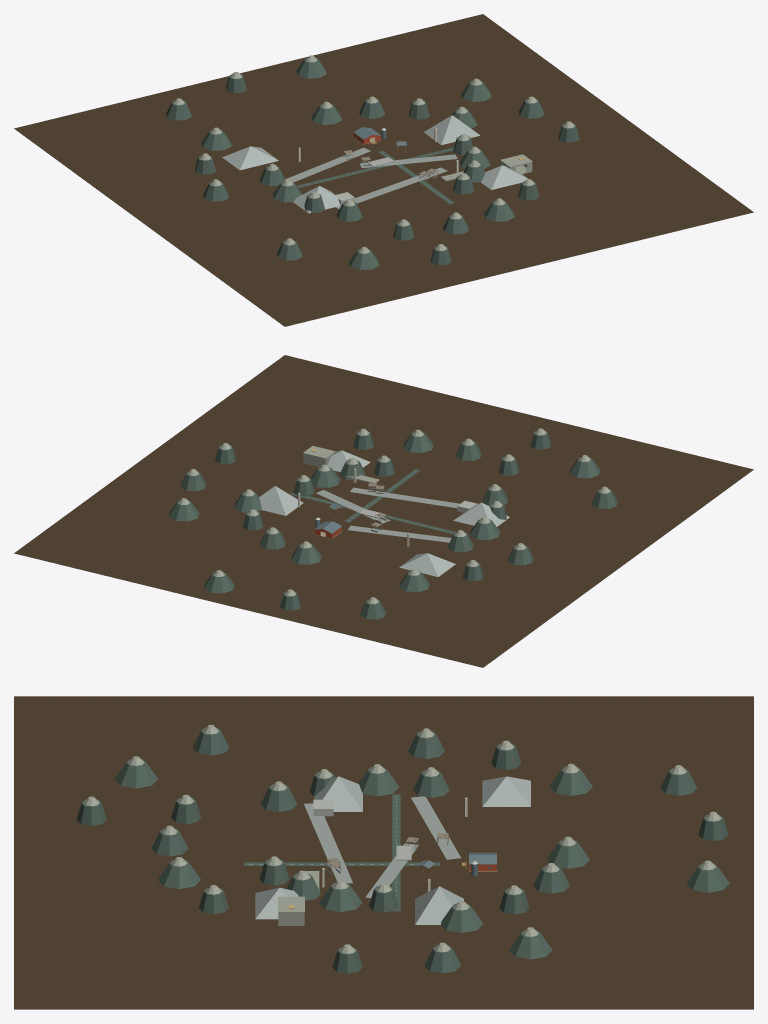
3 views of the same model, one above another, from view 1: azimuth 30°, elevation 25°; view 2: azimuth 150°, elevation 25°; view 3: azimuth 270°, elevation 25° (orthographic). The views are drawn at different scales.
Visible parts, largest first — view 1: Runtime FPV textured terrain ridgeway, Runtime ridgeway_1_0_0, Runtime #66746e, Runtime ridgeway_2_0_0, Runtime #565f57, Runtime ridgeway_0_0_0; view 2: Runtime FPV textured terrain ridgeway, Runtime ridgeway_1_0_0, Runtime #66746e, Runtime ridgeway_2_0_0, Runtime #565f57, Runtime ridgeway_0_0_0; view 3: Runtime FPV textured terrain ridgeway, Runtime ridgeway_1_0_0, Runtime #66746e, Runtime ridgeway_2_0_0, Runtime #565f57, Runtime ridgeway_0_0_0.
Part boxes in pixels (bbox=[...]): Runtime FPV textured terrain ridgeway: bbox=[14, 14, 753, 326]; Runtime ridgeway_1_0_0: bbox=[166, 58, 579, 270]; Runtime #66746e: bbox=[222, 115, 527, 213]; Runtime ridgeway_2_0_0: bbox=[173, 55, 574, 253]; Runtime #565f57: bbox=[285, 147, 457, 209]; Runtime ridgeway_0_0_0: bbox=[15, 129, 753, 326]; Runtime FPV textured terrain ridgeway: bbox=[14, 355, 753, 667]; Runtime ridgeway_1_0_0: bbox=[168, 430, 617, 619]; Runtime #66746e: bbox=[259, 450, 509, 576]; Runtime ridgeway_2_0_0: bbox=[178, 428, 610, 604]; Runtime #565f57: bbox=[316, 487, 459, 542]; Runtime ridgeway_0_0_0: bbox=[14, 470, 752, 667]; Runtime FPV textured terrain ridgeway: bbox=[14, 696, 753, 1009]; Runtime ridgeway_1_0_0: bbox=[76, 727, 729, 973]; Runtime #66746e: bbox=[255, 776, 530, 924]; Runtime ridgeway_2_0_0: bbox=[83, 724, 721, 953]; Runtime #565f57: bbox=[304, 796, 460, 898]; Runtime ridgeway_0_0_0: bbox=[14, 1009, 753, 1009].
Size of the model in its own units: 880 by 34.29 by 880.
25 materials, 9 textured.
